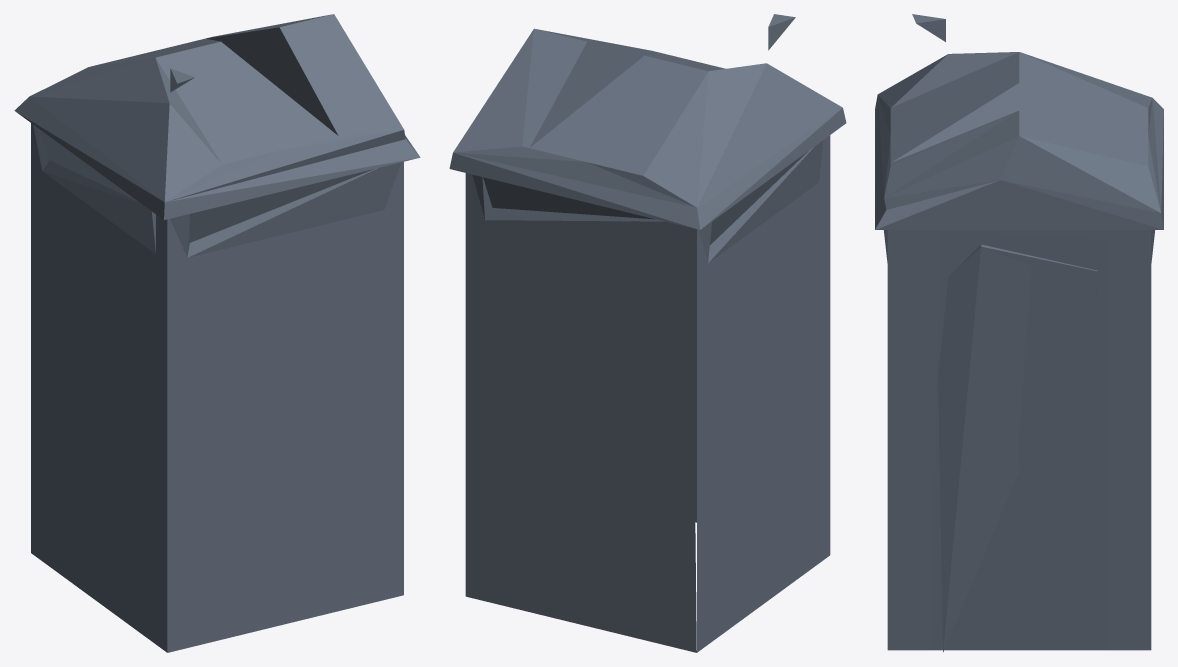
The model's file is porta-potty.lod2.glb.
The picture shows the model from 3 angles, left to right: view 1: azimuth 30°, elevation 25°; view 2: azimuth 150°, elevation 25°; view 3: azimuth 270°, elevation 25°; orthographic projection. The views are drawn at different scales.
Parts seen in each view (by area): view 1: defaultMaterial; view 2: defaultMaterial; view 3: defaultMaterial.
Boxes of the visible parts, <box> form: defaultMaterial: <box>14,14,420,652</box>; defaultMaterial: <box>449,14,846,652</box>; defaultMaterial: <box>875,14,1163,652</box>.
Size of the model in its own units: 0.968 by 2 by 0.9775.
